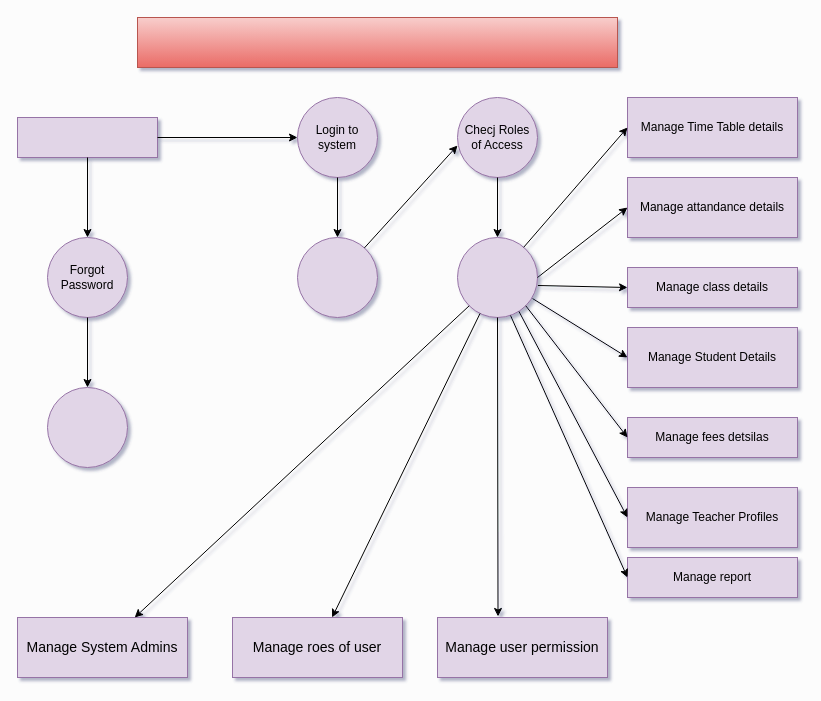
The diagram is 821 pixels wide and 701 high, and some of its shapes have lost their labels. The shapes that lost their labels are listed below. From the top down, each one's box as (x1, y1, x2, y2) in pixels, then its label:
(136, 16, 618, 68): STUDENT INFORMATION DETAILS
(16, 116, 158, 158): ADMIN
(296, 236, 378, 318): check credentials
(456, 236, 538, 318): Manage Modules
(46, 386, 128, 468): Send Email to User
